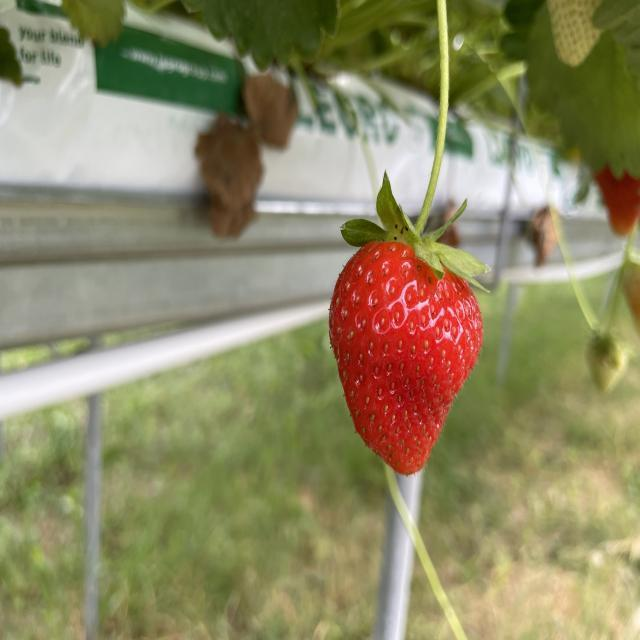stem: (340, 0, 486, 287)
strawberryR: (328, 243, 483, 471)
